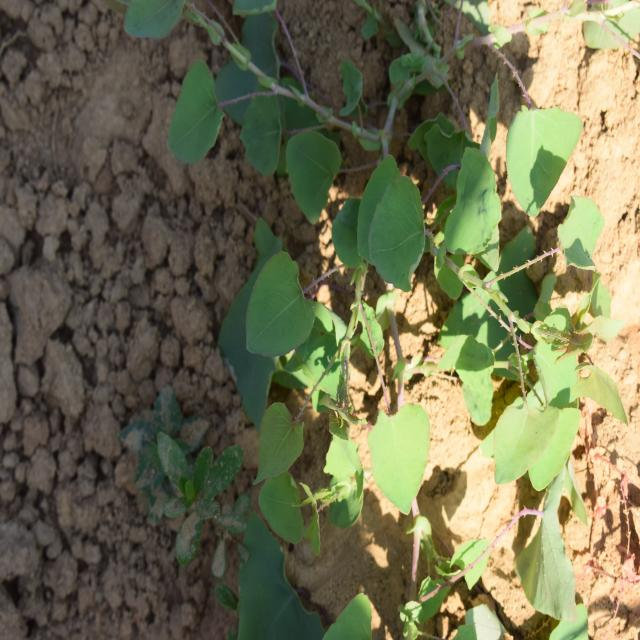Asiatic_Smartweed: (238, 194, 453, 536), (442, 90, 623, 495), (150, 0, 380, 212)
